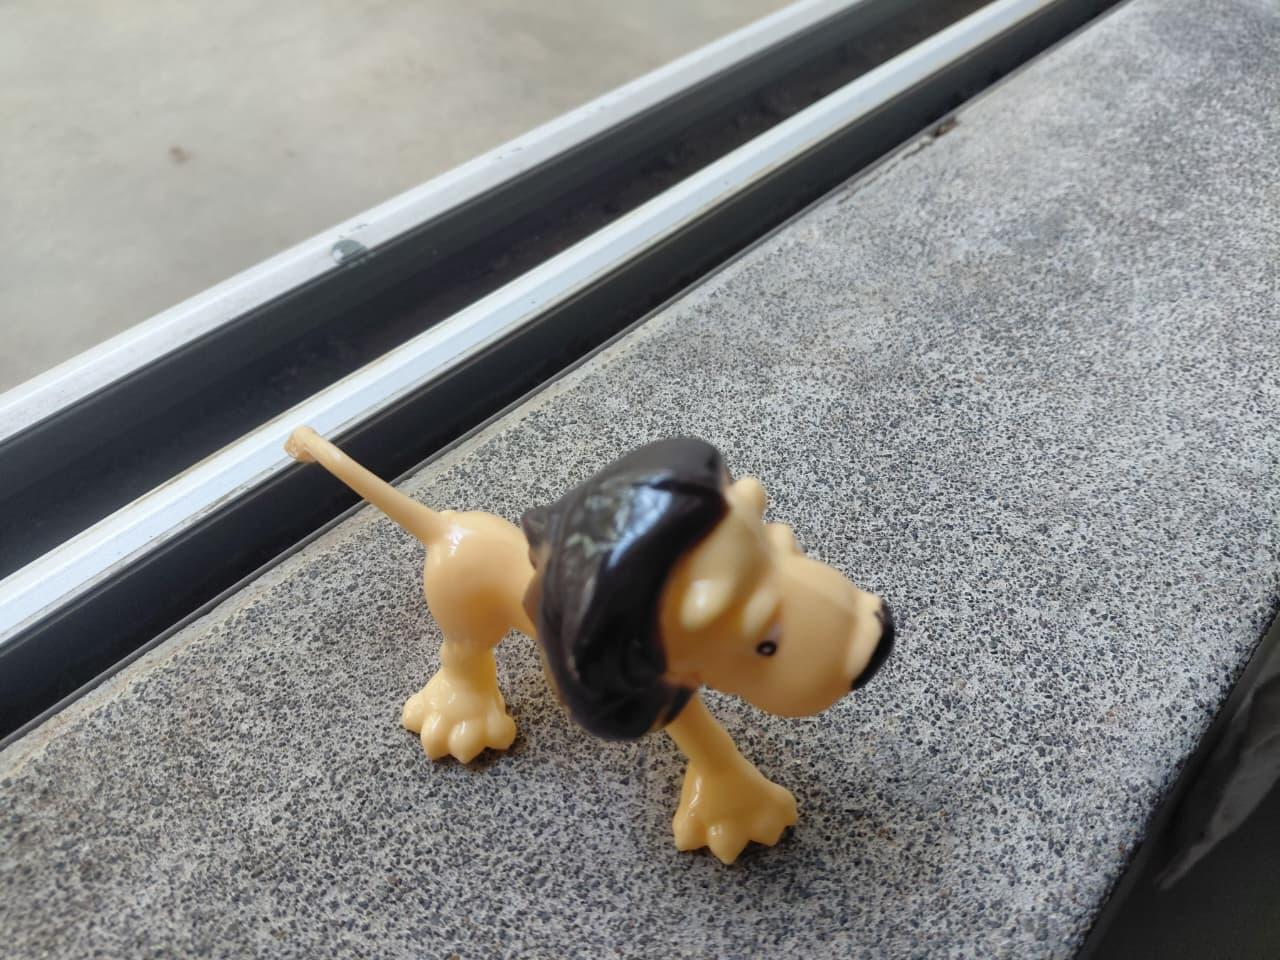lion: (270, 398, 965, 880)
